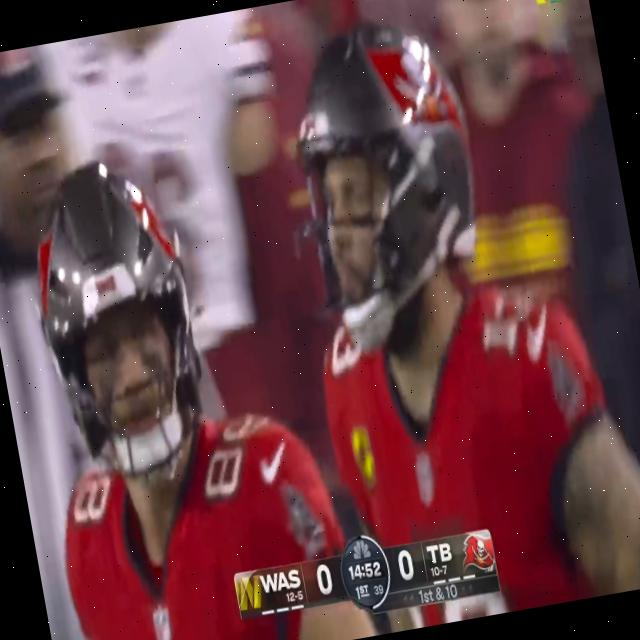Player: (223, 0, 640, 640), (0, 128, 372, 640)
